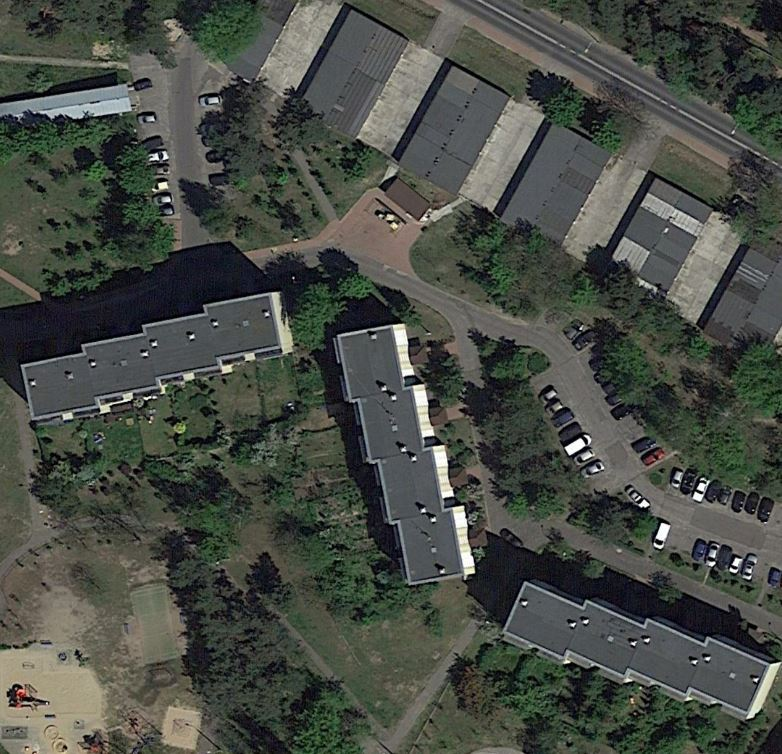block of flats: (488, 570, 778, 736), (327, 308, 485, 609), (19, 280, 301, 439)
garage: (390, 59, 515, 209), (490, 114, 618, 259), (292, 4, 413, 148), (603, 166, 719, 303), (686, 242, 782, 365), (187, 1, 308, 84)
